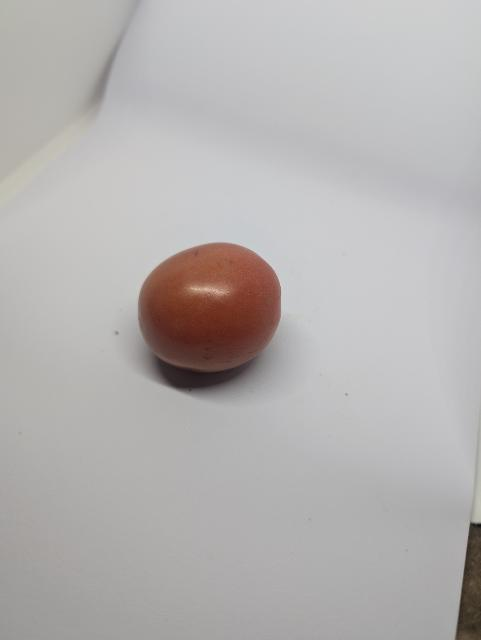red: (129, 234, 308, 393)
